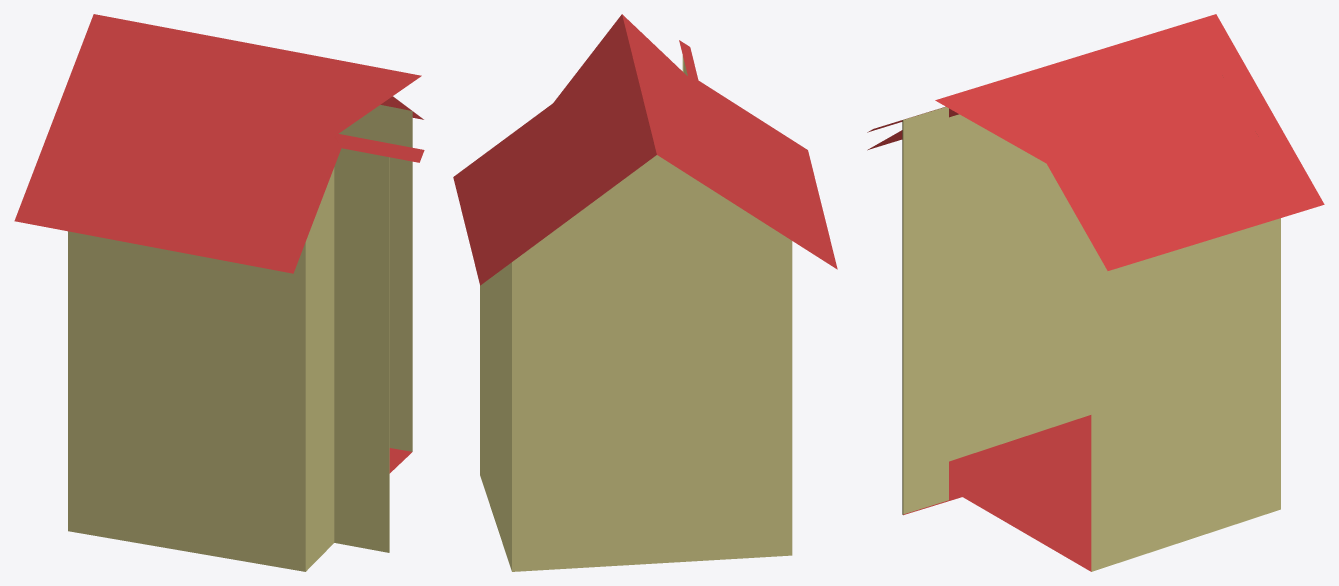
3 renders of one model, left to right at view 1: azimuth 30°, elevation 25°; view 2: azimuth 150°, elevation 25°; view 3: azimuth 270°, elevation 25°, orthographic. The views are drawn at different scales.
Size of the model in its own units: 9.74 by 9.72 by 10.24.
